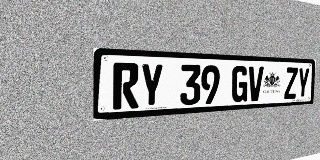3: (180, 64, 201, 106)
9: (201, 65, 220, 104)
G: (231, 66, 248, 102)
R: (113, 62, 139, 110)
V: (247, 66, 264, 102)
Y: (139, 63, 164, 108), (297, 68, 310, 99)
Z: (284, 67, 298, 99)
